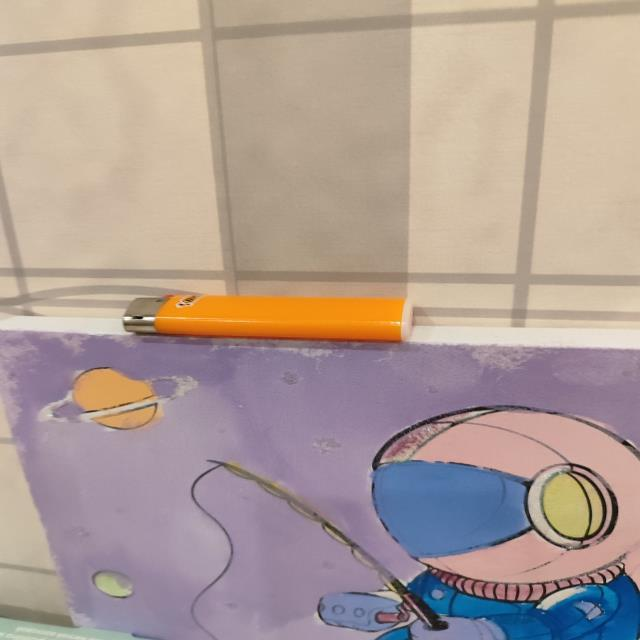lighter: (123, 293, 412, 342)
